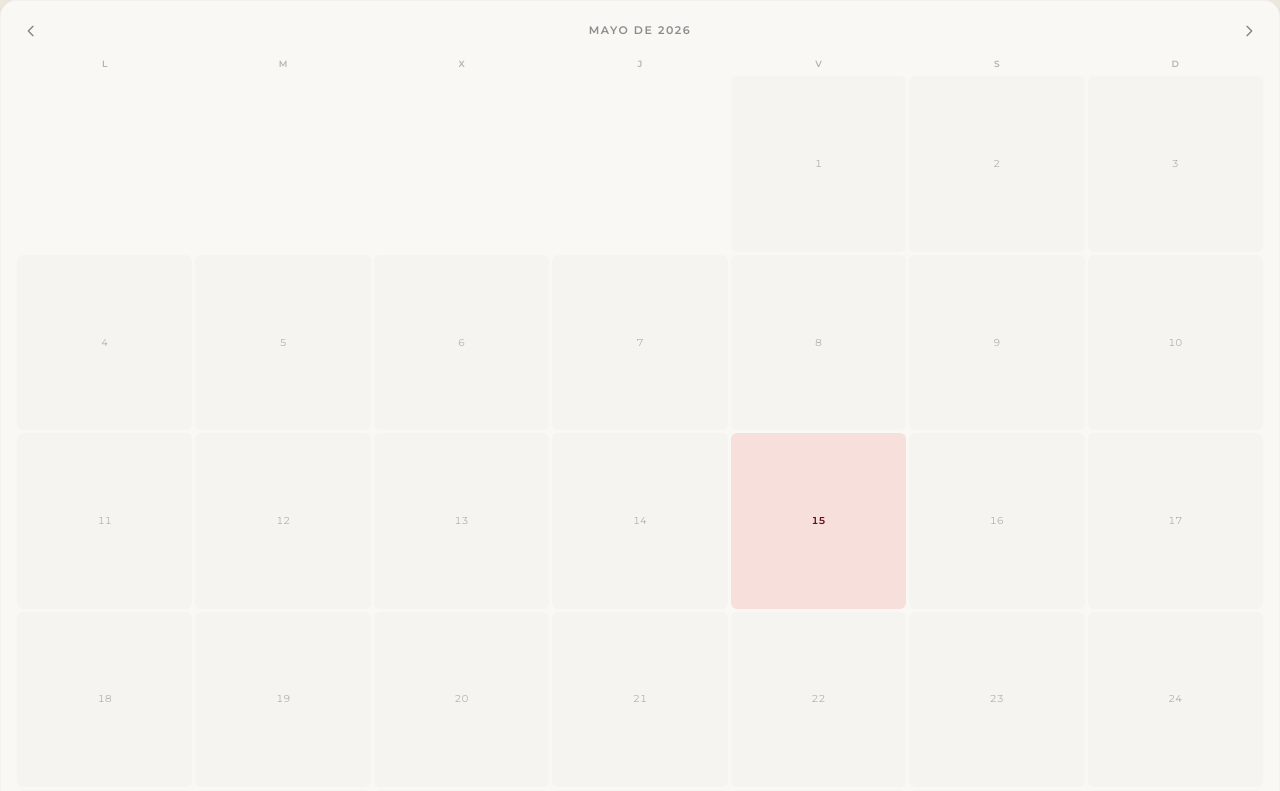
Test case: SessionMiniCalendar › advances to the next month when the next-month arrow is clicked
Click the button named "Mes siguiente": (1249,31) x1=1235 y1=17 x2=1263 y2=45
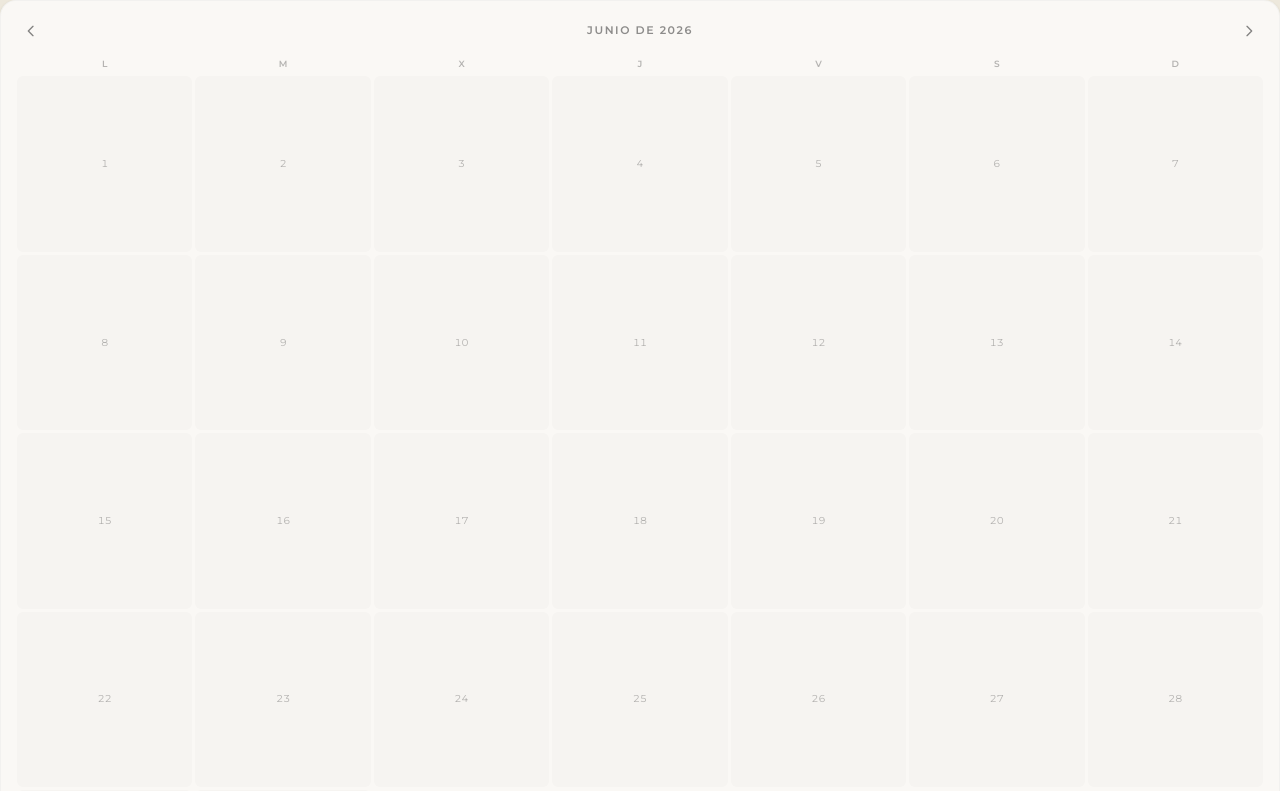
Now the text "junio de 2026" is shown, box x1=587 y1=22 x2=693 y2=40
